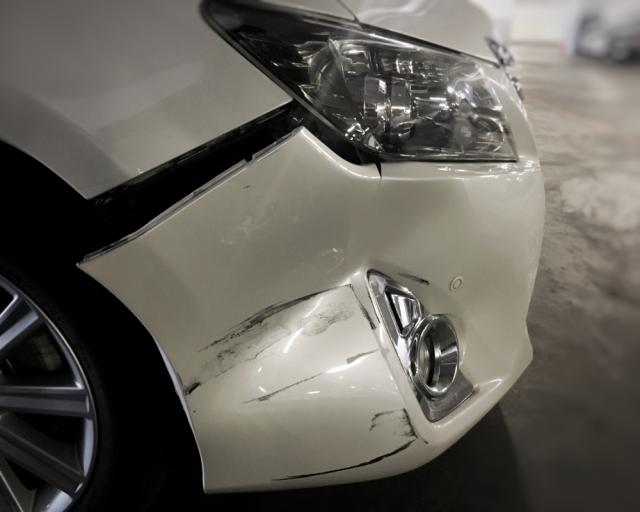crack: (374, 162, 383, 189)
scratch: (177, 279, 383, 401), (268, 403, 424, 485), (266, 343, 385, 401)
